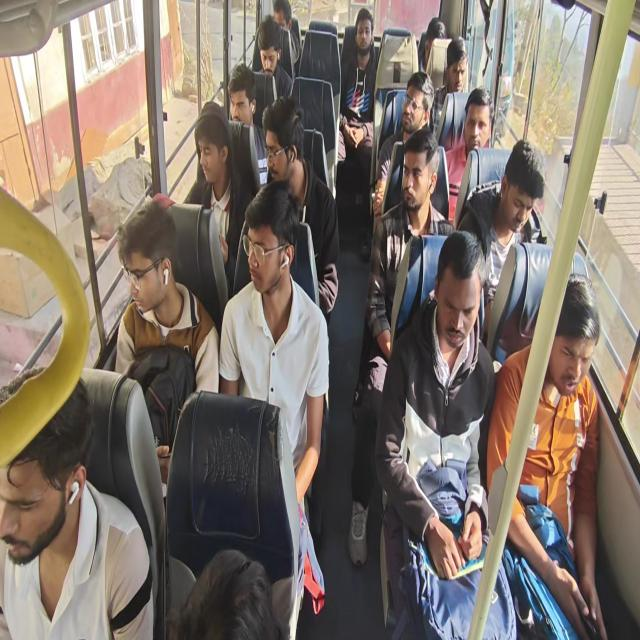person: (3, 1, 613, 638), (374, 230, 518, 638), (347, 128, 457, 567), (486, 272, 607, 639), (0, 366, 154, 639), (218, 180, 330, 510), (114, 200, 220, 486), (366, 128, 456, 358), (261, 94, 340, 324), (458, 138, 546, 337), (188, 101, 252, 295), (169, 548, 283, 638), (372, 70, 435, 228), (337, 8, 378, 170), (445, 86, 493, 220), (227, 62, 269, 186), (430, 36, 469, 136), (255, 16, 293, 100), (272, 0, 300, 76), (419, 17, 447, 72)
